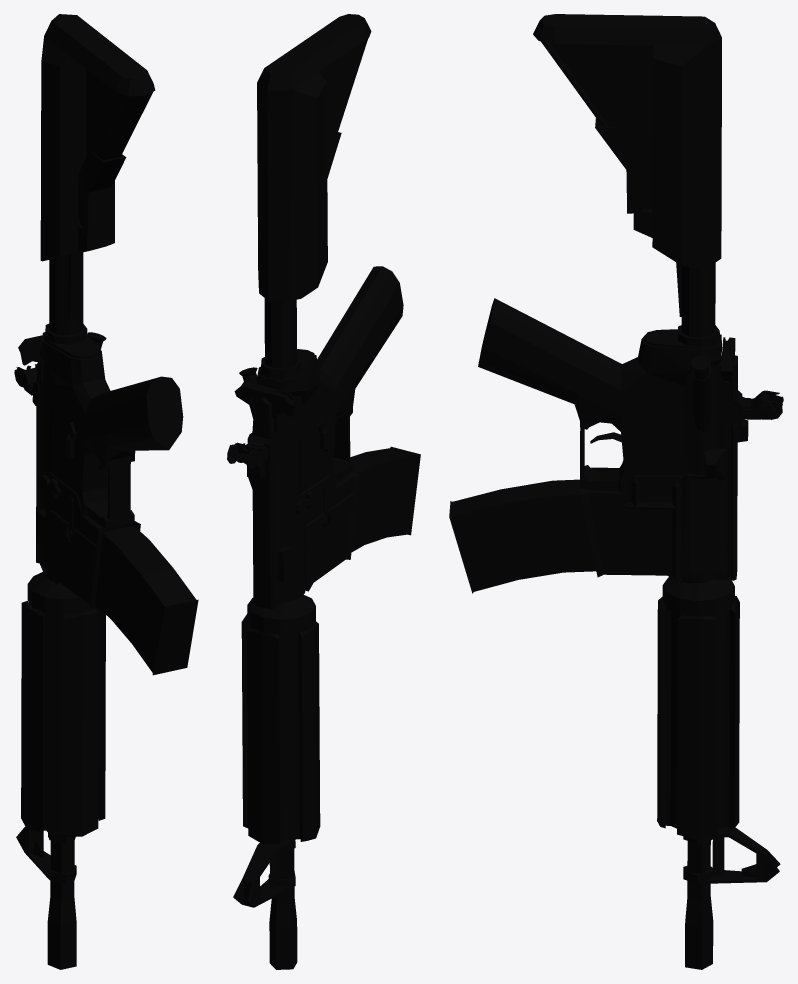
File: w_rif_m4a1.obj
3 renders of one model, left to right at view 1: azimuth 30°, elevation 25°; view 2: azimuth 150°, elevation 25°; view 3: azimuth 270°, elevation 25°, orthographic. The views are drawn at different scales.
Bounding box in the file's own units: 0.0309 × 0.3534 × 0.1135.
1 material, 1 textured.
